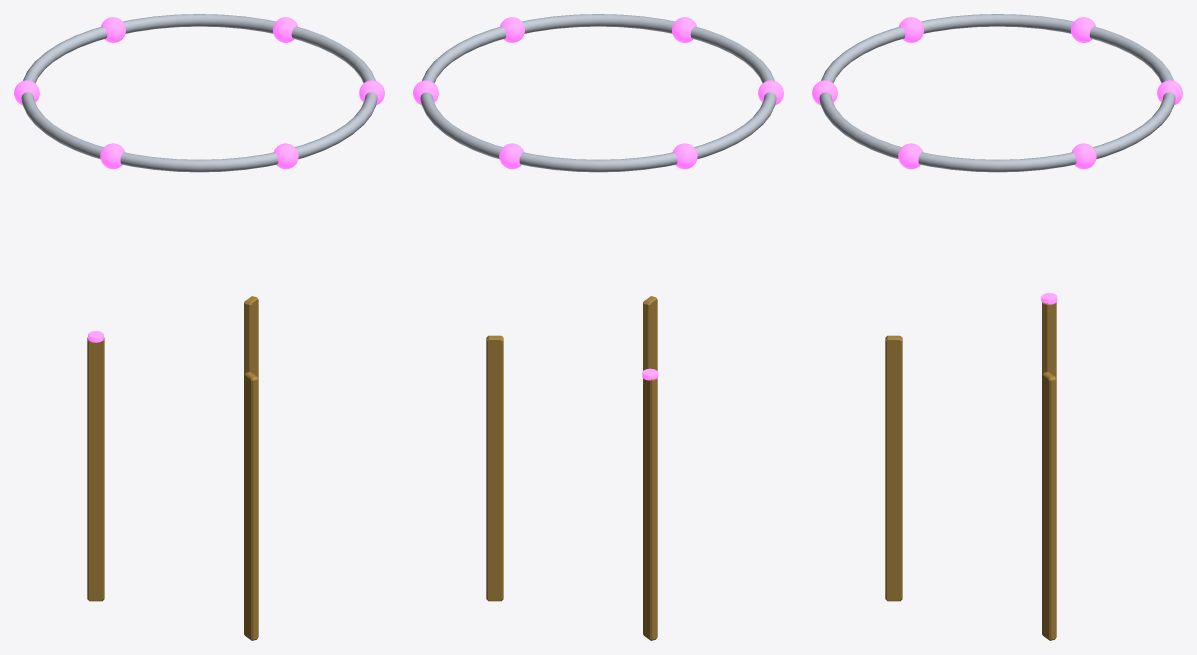
File: tower_arc_damage_s3.glb
3 renders of one model, left to right at view 1: azimuth 30°, elevation 25°; view 2: azimuth 150°, elevation 25°; view 3: azimuth 270°, elevation 25°, orthographic.
Visible parts, largest first — view 1: arc_electrode_ring, arc_ground_strap0, arc_ground_strap2, arc_ground_strap1; view 2: arc_electrode_ring, arc_ground_strap1, arc_ground_strap0, arc_ground_strap2; view 3: arc_electrode_ring, arc_ground_strap2, arc_ground_strap1, arc_ground_strap0.
Part boxes in pixels (x1,y1,x2,y2): arc_electrode_ring: [21, 14, 377, 172]; arc_ground_strap0: [87, 337, 104, 601]; arc_ground_strap2: [244, 372, 258, 640]; arc_ground_strap1: [244, 296, 258, 378]; arc_electrode_ring: [420, 14, 776, 172]; arc_ground_strap1: [486, 335, 503, 601]; arc_ground_strap0: [643, 378, 657, 640]; arc_ground_strap2: [643, 296, 657, 378]; arc_electrode_ring: [819, 14, 1175, 172]; arc_ground_strap2: [885, 335, 902, 601]; arc_ground_strap1: [1042, 372, 1056, 640]; arc_ground_strap0: [1042, 302, 1056, 378].
Size of the model in its own units: 1.24 by 1.99 by 1.29.
